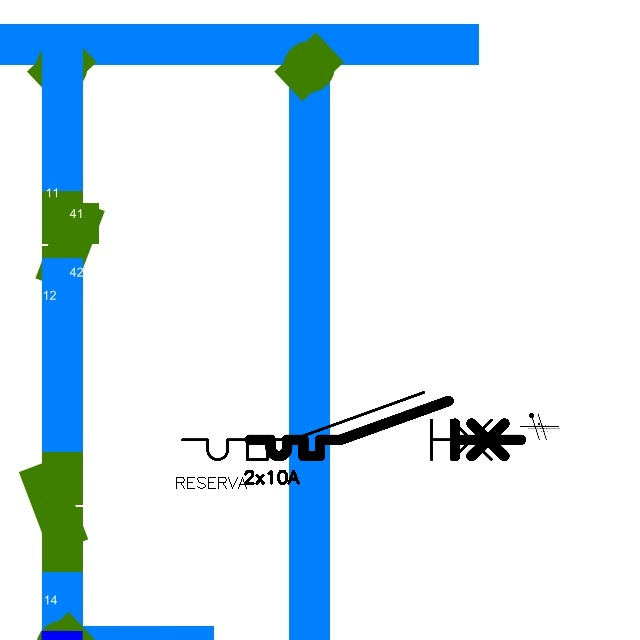interruptor_termomagnetico: (174, 384, 520, 468), (243, 394, 528, 463)
